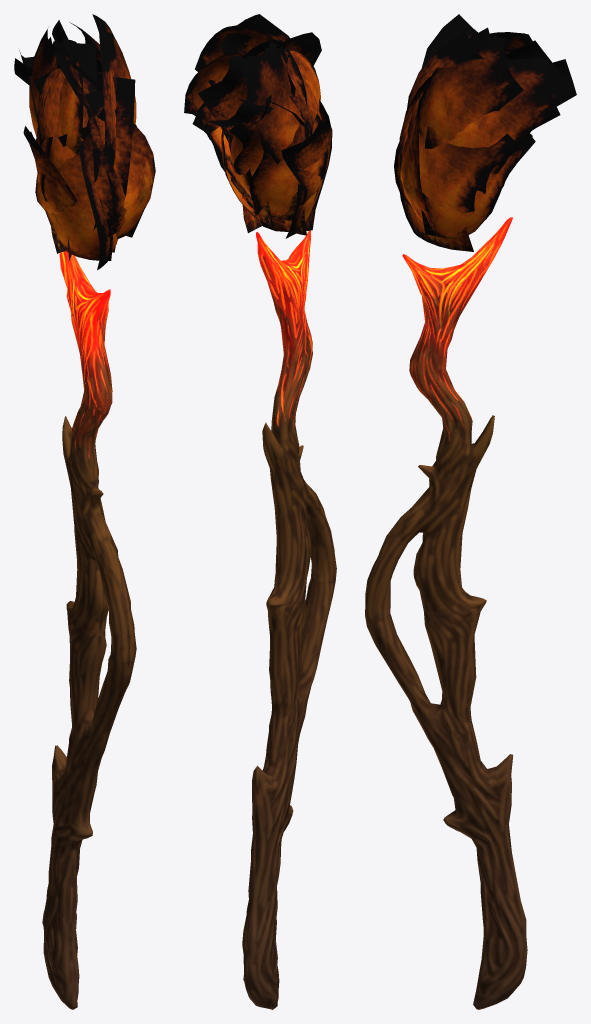
Rendered from staff-fire.glb.
3 renders of one model, left to right at view 1: azimuth 30°, elevation 25°; view 2: azimuth 150°, elevation 25°; view 3: azimuth 270°, elevation 25°, orthographic.
Parts seen in each view (by area): view 1: staff; view 2: staff; view 3: staff.
Boxes of the visible parts, x1,y1,x2,y2 form: staff: (14, 14, 155, 1009); staff: (184, 14, 336, 1009); staff: (365, 14, 576, 1009).
Bounding box in the file's own units: 0.2678 × 2.3 × 0.4457.
2 materials, 2 textured.
